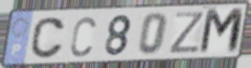0: (137, 11, 169, 57)
8: (104, 13, 132, 58)
C: (29, 16, 66, 60), (69, 15, 97, 59)
M: (197, 6, 246, 56)
Z: (167, 10, 207, 55)
